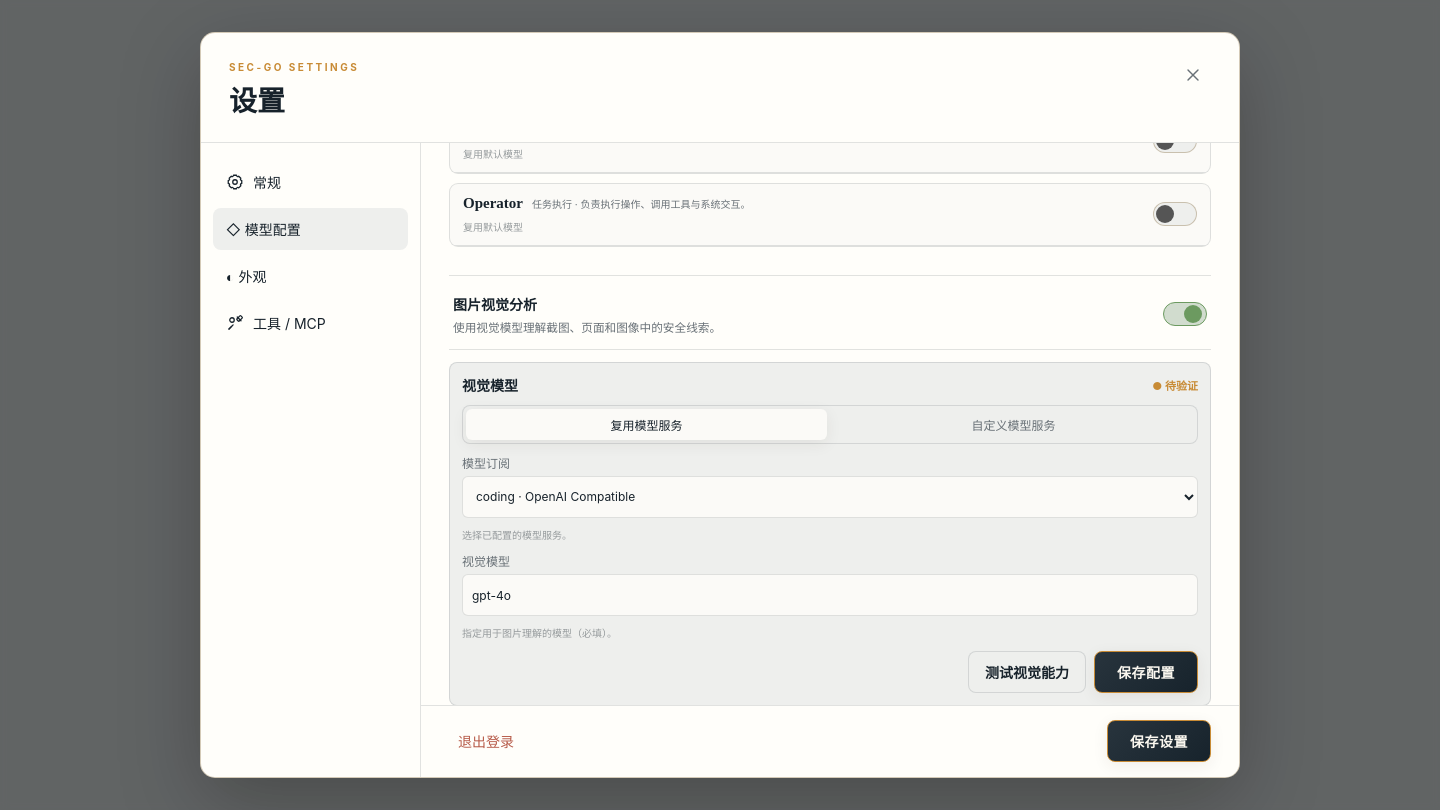
Test: SettingsPanel vision settings › switches to custom mode and shows provider/baseURL/modelId/apiKey
(page scrolled)
Click the radio button labelled "自定义模型服务": (1014, 424) [833,409,1194,440]
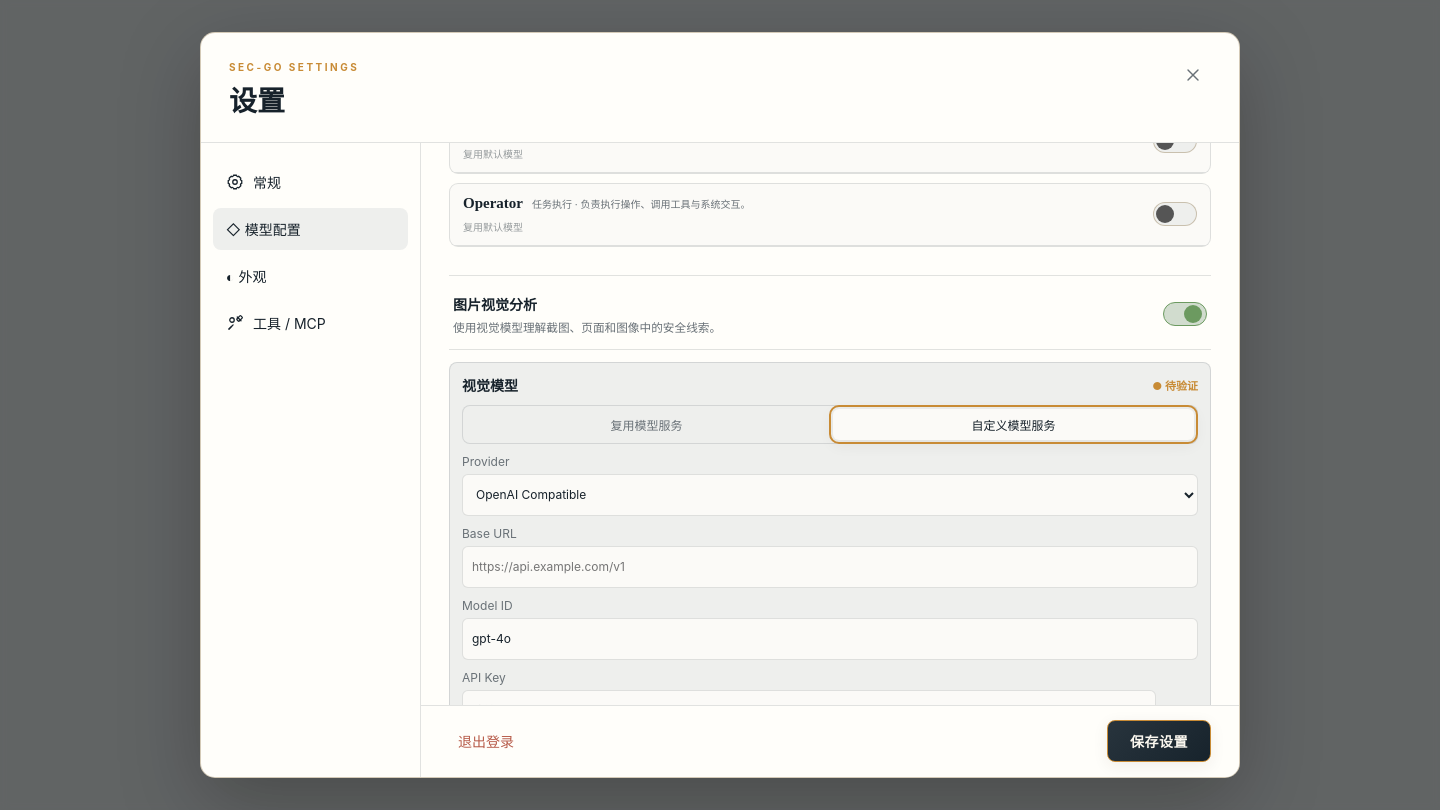
Expected: the dropdown named "Vision Provider" is shown, [462,474,1198,516]
Expected: the field named "Vision Base URL" is shown, [462,546,1198,588]
Expected: the field named "Vision Model ID" is shown, [462,618,1198,660]
